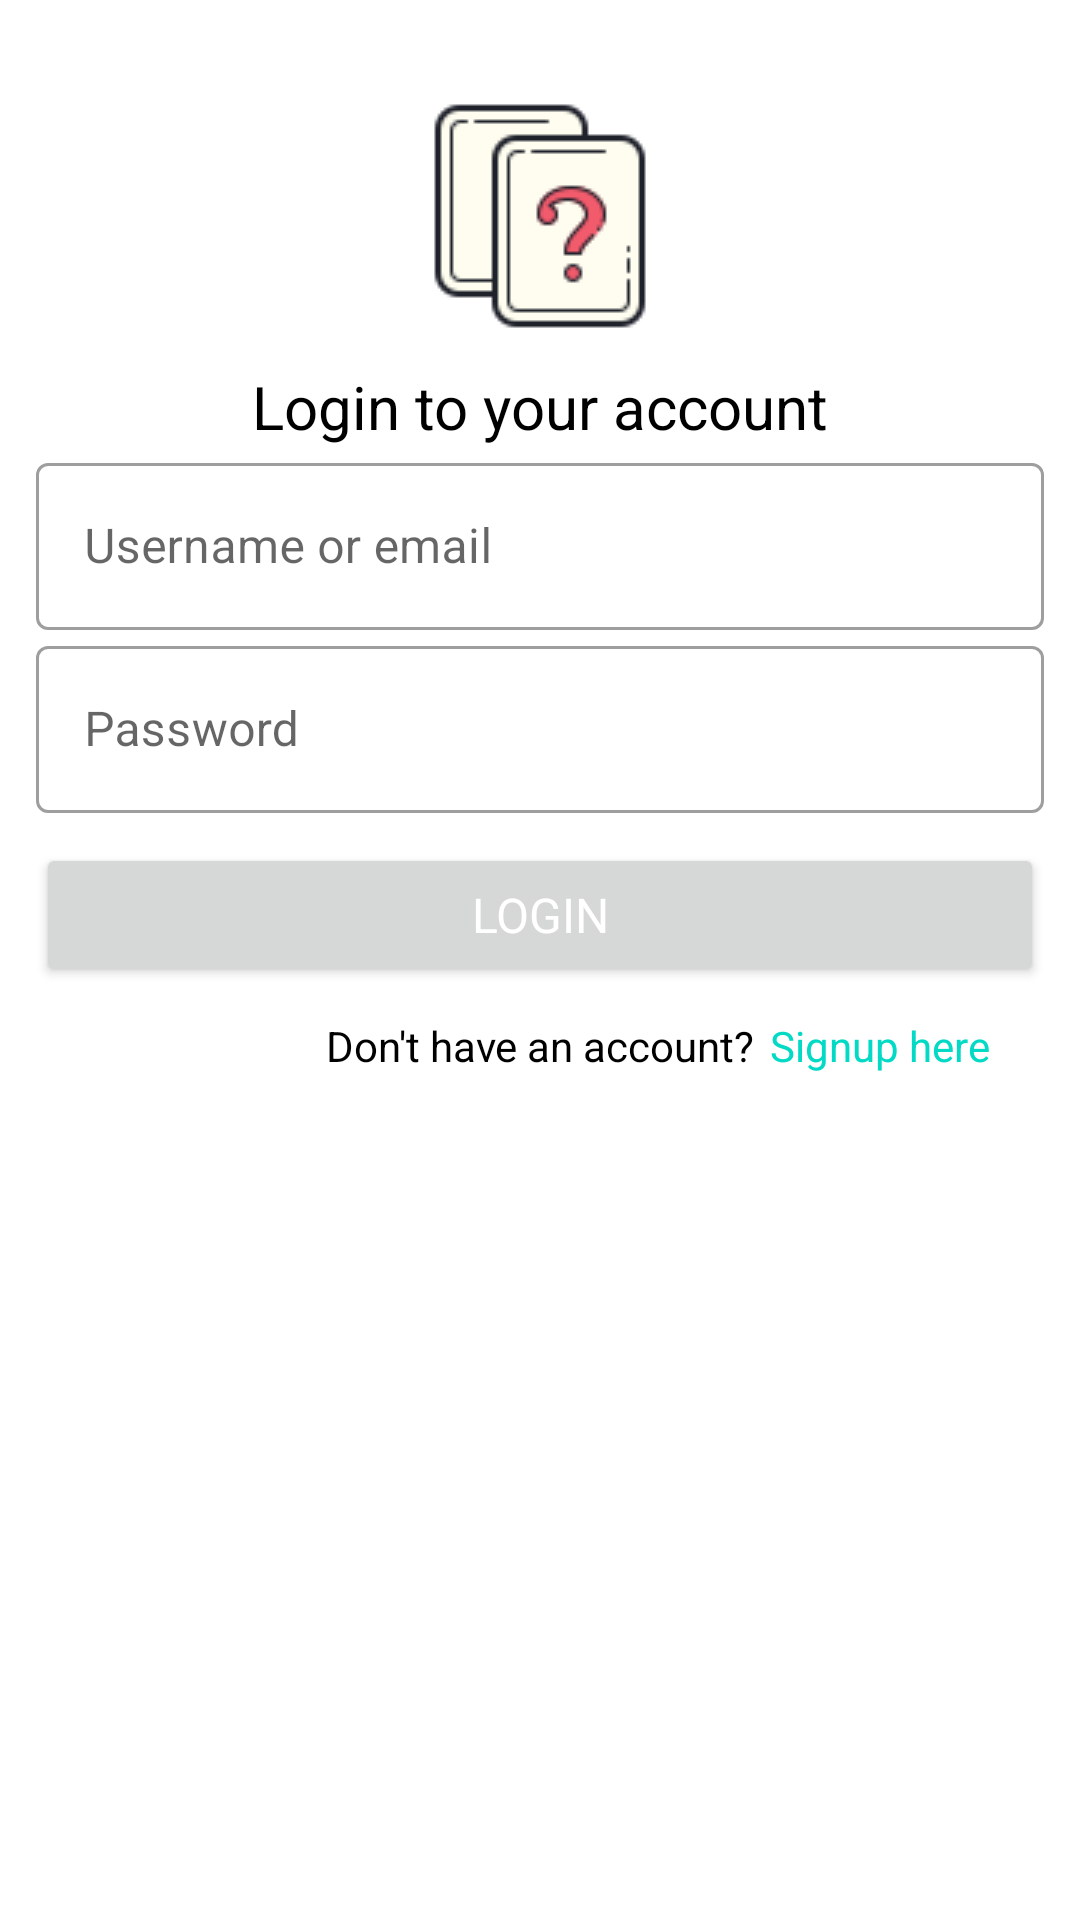

Icons on this 1080px×1920px Android screen, each with the point to tap as (x=x, y=y):
icon of app: (x=540, y=216)
